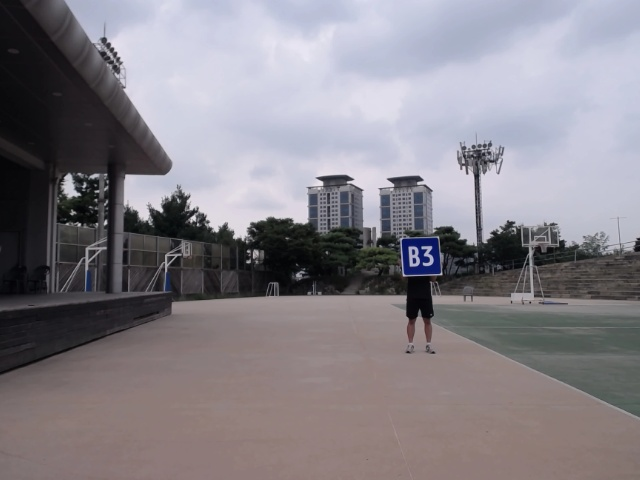delivery_b3: (399, 235, 444, 278)
